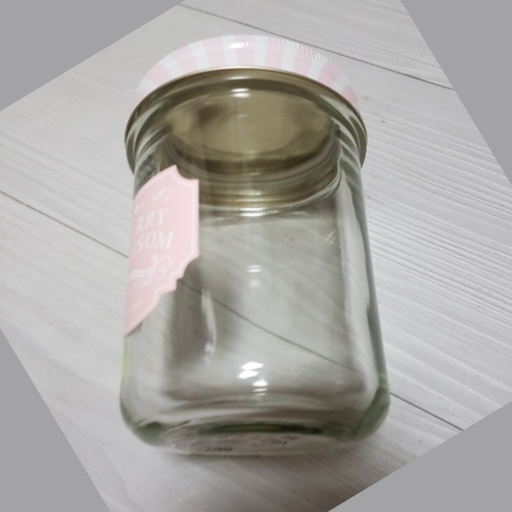Glass_5: (121, 38, 389, 457)
